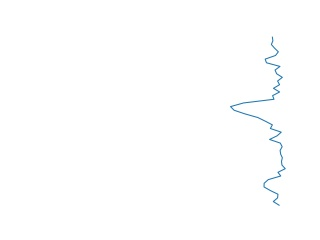interdistributaryEstuary: (226, 36, 290, 205)
